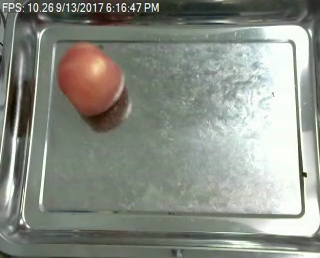Apple: (55, 42, 123, 117)
